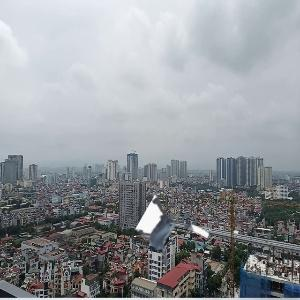drone: (134, 207, 207, 280)
